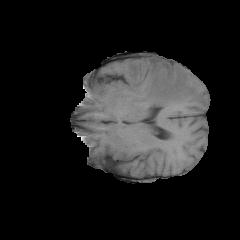glioma: (127, 58, 198, 107)
